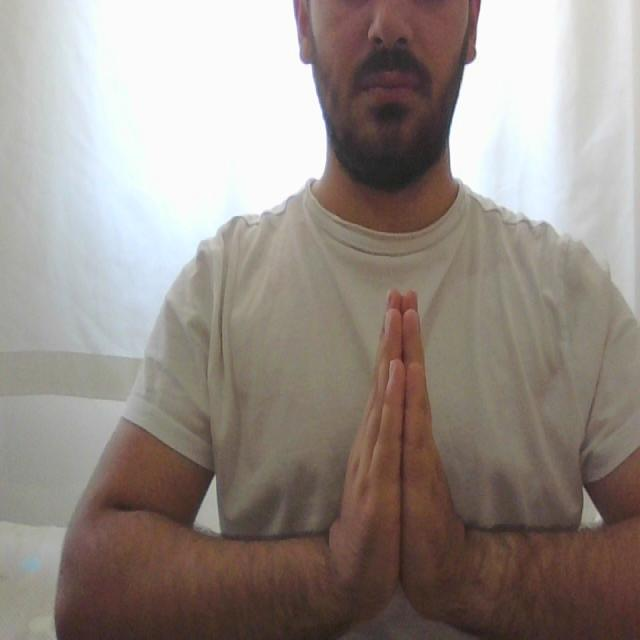Ozur-Dilemek: (315, 274, 484, 640)
